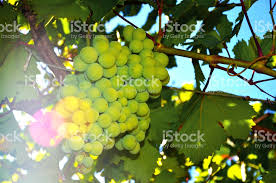grapes: (49, 34, 174, 150)
